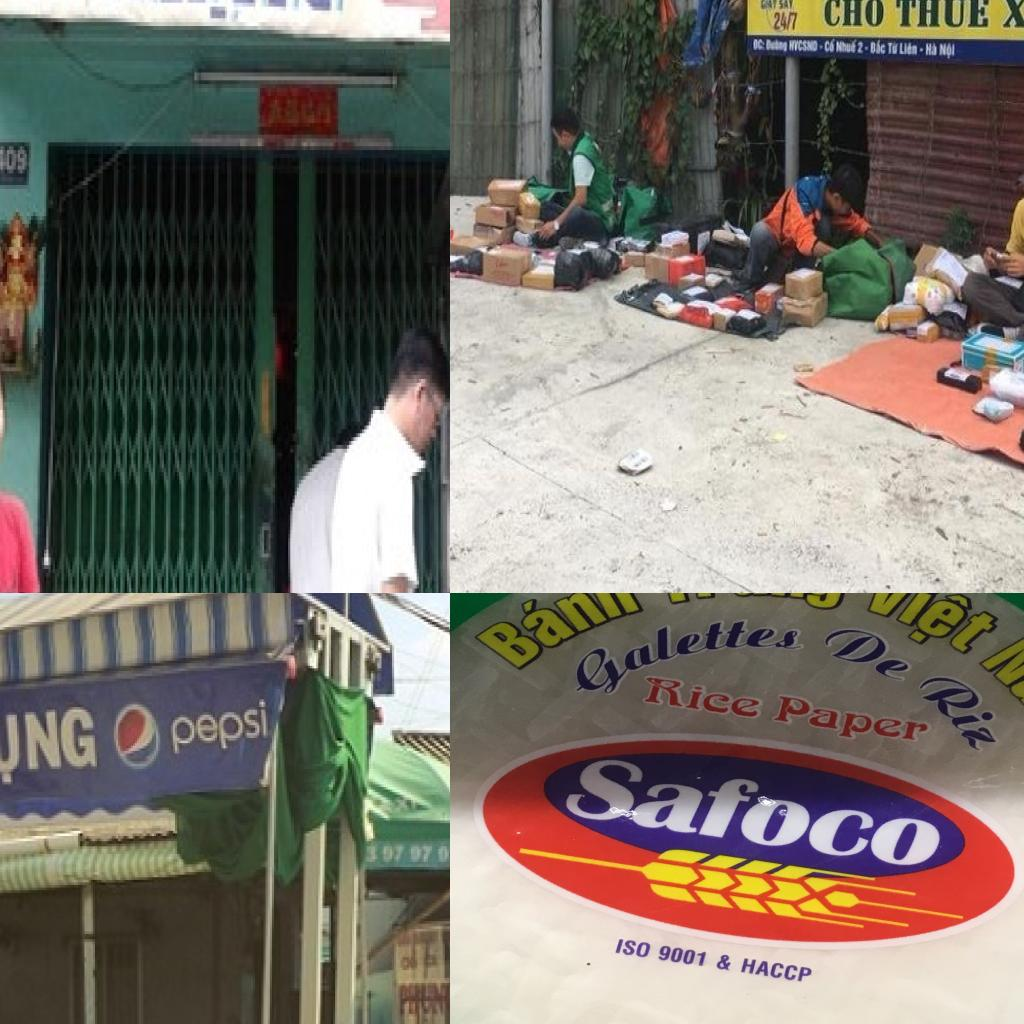text: (555, 750, 962, 875), (543, 593, 806, 703), (452, 593, 654, 676), (903, 657, 1024, 755), (857, 593, 1017, 661), (766, 691, 932, 755), (92, 0, 349, 41), (0, 704, 103, 794), (813, 614, 929, 691), (967, 619, 1024, 752), (167, 697, 276, 764), (640, 669, 770, 723), (629, 593, 868, 613), (892, 0, 992, 33), (360, 841, 450, 872), (739, 955, 816, 986), (821, 0, 886, 30), (655, 943, 709, 970), (0, 142, 31, 181), (612, 936, 658, 959), (999, 0, 1024, 32), (772, 10, 800, 35), (714, 952, 737, 973), (900, 42, 925, 58), (835, 38, 858, 55), (765, 39, 789, 55), (938, 42, 957, 60), (870, 39, 887, 57), (759, 0, 778, 14), (752, 36, 766, 53), (778, 0, 796, 13), (824, 38, 837, 55), (887, 40, 900, 57), (925, 42, 938, 58), (856, 42, 864, 55), (864, 47, 870, 53)
